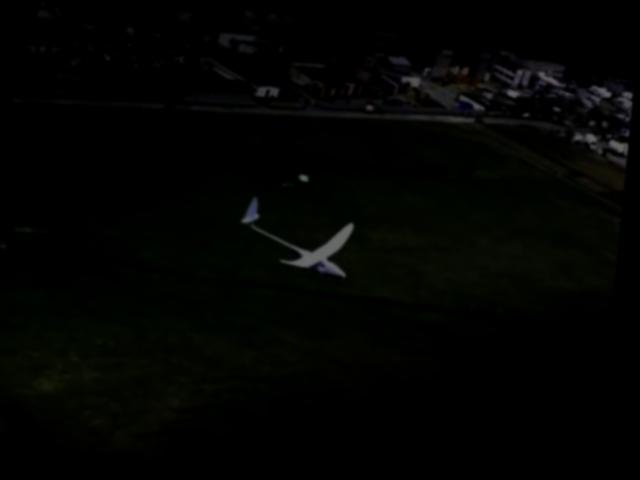flying wing: (226, 188, 369, 286)
